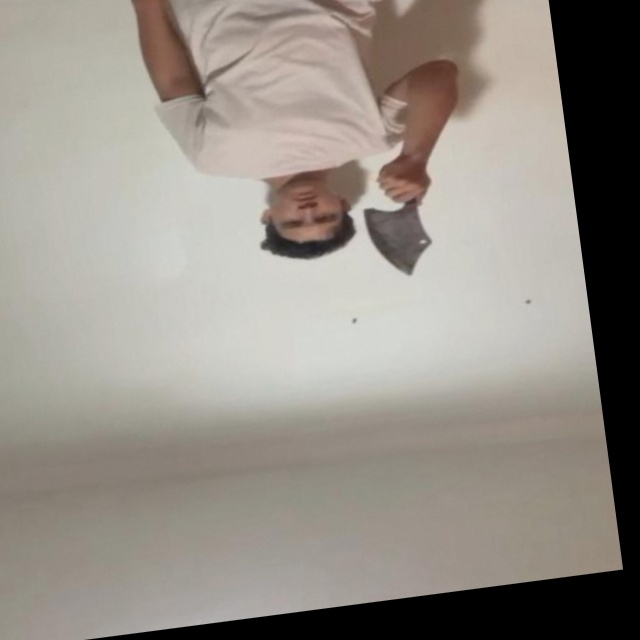Sharp-Object: (363, 199, 438, 283)
